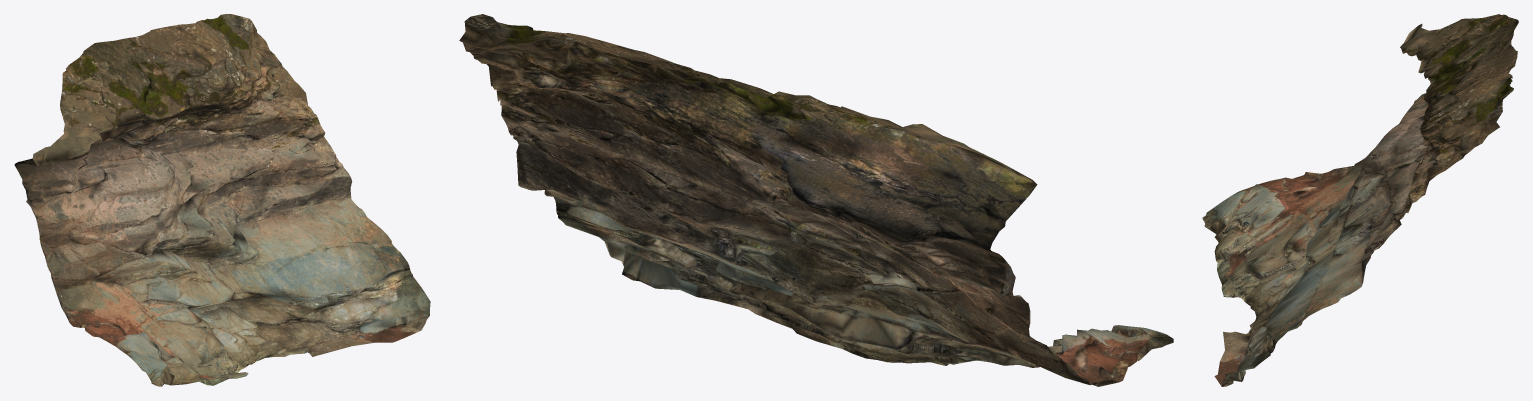
File: rock_face_01.glb
3 views of the same model, side by side, from view 1: azimuth 30°, elevation 25°; view 2: azimuth 150°, elevation 25°; view 3: azimuth 270°, elevation 25° (orthographic). The views are drawn at different scales.
Visible parts, largest first — view 1: rock_face_01; view 2: rock_face_01; view 3: rock_face_01.
Boxes of the visible parts, x1,y1,x2,y2 form: rock_face_01: (14,14,430,386); rock_face_01: (459,14,1173,386); rock_face_01: (1202,14,1518,386).
Bounding box in the file's own units: 4.94 × 3.56 × 3.82.
1 material, 1 textured.
